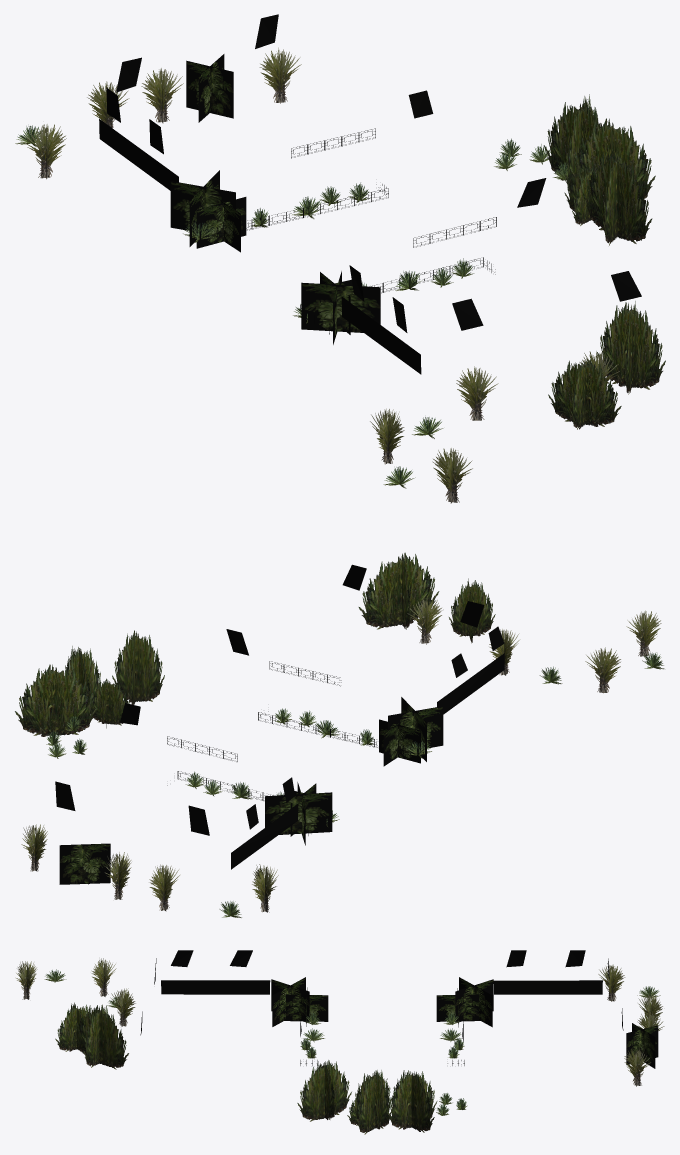
The model's file is burg_alpha.obj.
The picture shows the model from 3 angles, top to bottom: view 1: azimuth 30°, elevation 25°; view 2: azimuth 150°, elevation 25°; view 3: azimuth 270°, elevation 25°; orthographic projection. The views are drawn at different scales.
Parts seen in each view (by area): view 1: burg_alpha; view 2: burg_alpha; view 3: burg_alpha.
Boxes of the visible parts, x1,y1,x2,y2 form: burg_alpha: [15, 14, 665, 503]; burg_alpha: [15, 552, 664, 917]; burg_alpha: [15, 950, 664, 1134].
Bounding box in the file's own units: 37.02 × 7.65 × 61.81.
